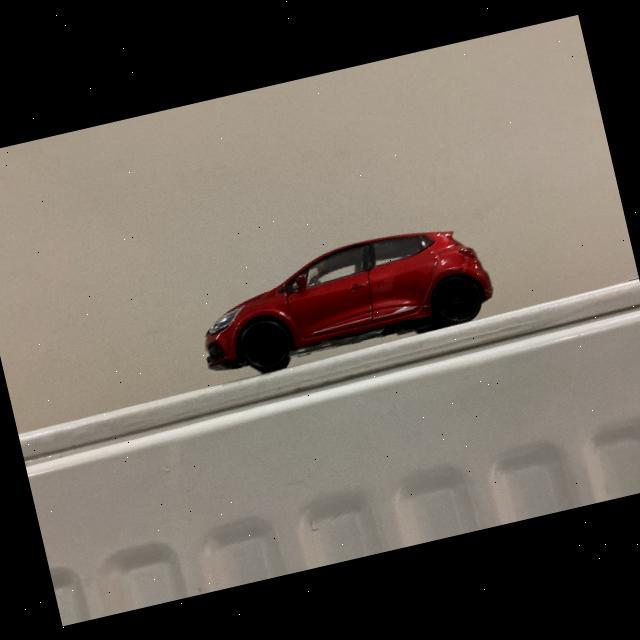Dogru_Jant: (434, 278, 480, 320), (244, 324, 285, 368)
